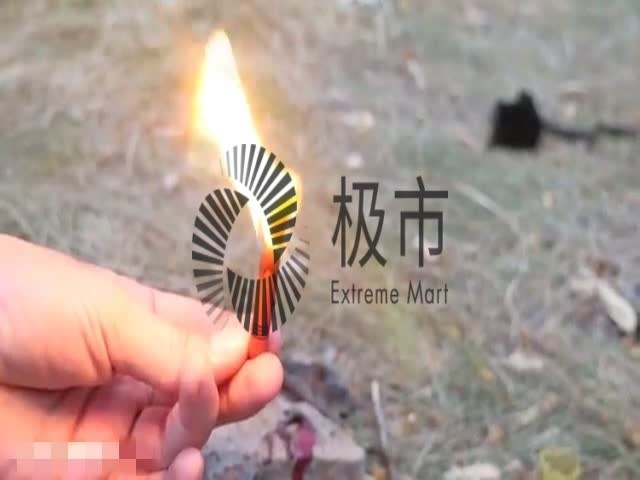fire: (191, 25, 292, 231)
